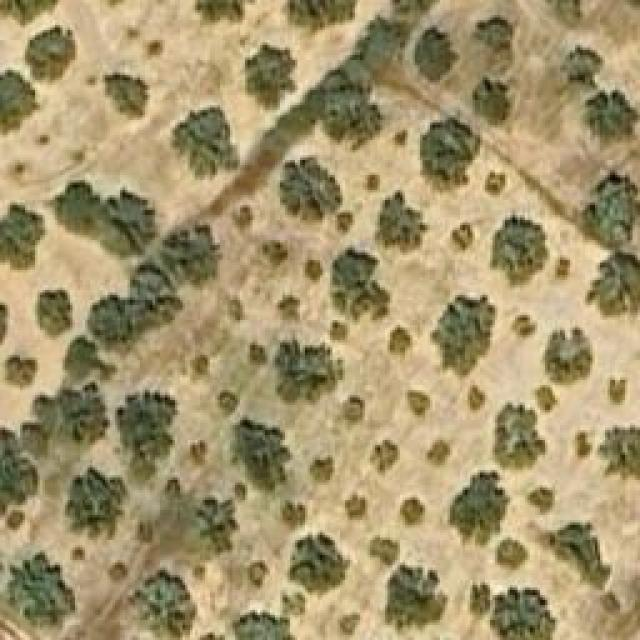Tree: (430, 293, 498, 378), (115, 390, 175, 483), (470, 582, 558, 640), (65, 467, 128, 545), (88, 295, 182, 347), (7, 555, 75, 625), (128, 570, 198, 638), (420, 118, 483, 193), (173, 103, 236, 178), (540, 523, 610, 588), (448, 470, 508, 545), (490, 213, 550, 286), (385, 565, 448, 633), (232, 418, 290, 491), (332, 250, 390, 323), (288, 530, 351, 595), (275, 343, 343, 403), (487, 403, 545, 473), (583, 175, 638, 248), (33, 385, 108, 437), (98, 195, 159, 258), (165, 223, 229, 282), (318, 83, 379, 143), (245, 42, 298, 110), (375, 190, 428, 253), (540, 328, 595, 388), (582, 90, 640, 143), (0, 205, 45, 273), (0, 425, 38, 505), (282, 0, 360, 38), (25, 25, 78, 80), (590, 257, 638, 315), (280, 165, 335, 215), (470, 15, 520, 68), (53, 178, 103, 230), (597, 425, 640, 482), (103, 70, 153, 118), (0, 70, 38, 133), (415, 28, 460, 81), (195, 498, 238, 551), (65, 338, 115, 381), (35, 288, 75, 341), (130, 253, 176, 296), (473, 77, 513, 125), (560, 45, 603, 88), (233, 612, 298, 640), (0, 0, 65, 25), (189, 0, 262, 22), (495, 535, 530, 578), (5, 350, 40, 390), (370, 440, 398, 478), (240, 340, 271, 372), (528, 483, 558, 513), (335, 395, 365, 423), (370, 535, 398, 565), (188, 354, 216, 384), (548, 0, 581, 25), (400, 498, 425, 528), (388, 330, 413, 358), (535, 385, 560, 413), (278, 500, 303, 528), (278, 293, 301, 323), (453, 223, 476, 253), (220, 297, 250, 319), (408, 390, 431, 418), (310, 455, 333, 483), (345, 492, 368, 520), (428, 440, 453, 465), (263, 243, 288, 266), (485, 170, 505, 198), (608, 377, 628, 405), (467, 383, 485, 413), (513, 315, 536, 338), (215, 390, 238, 413), (303, 258, 323, 281), (247, 560, 265, 585), (107, 560, 125, 583), (5, 508, 25, 528), (188, 442, 208, 460), (555, 258, 570, 281)
